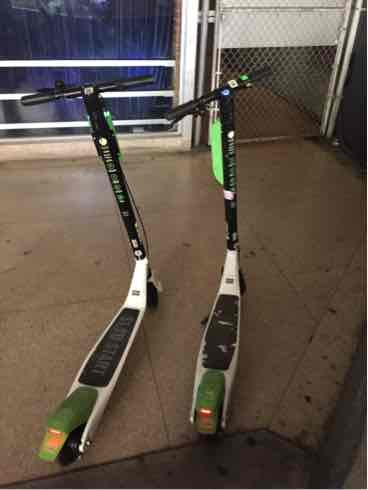scooter: (12, 73, 174, 479), (152, 55, 287, 455)
